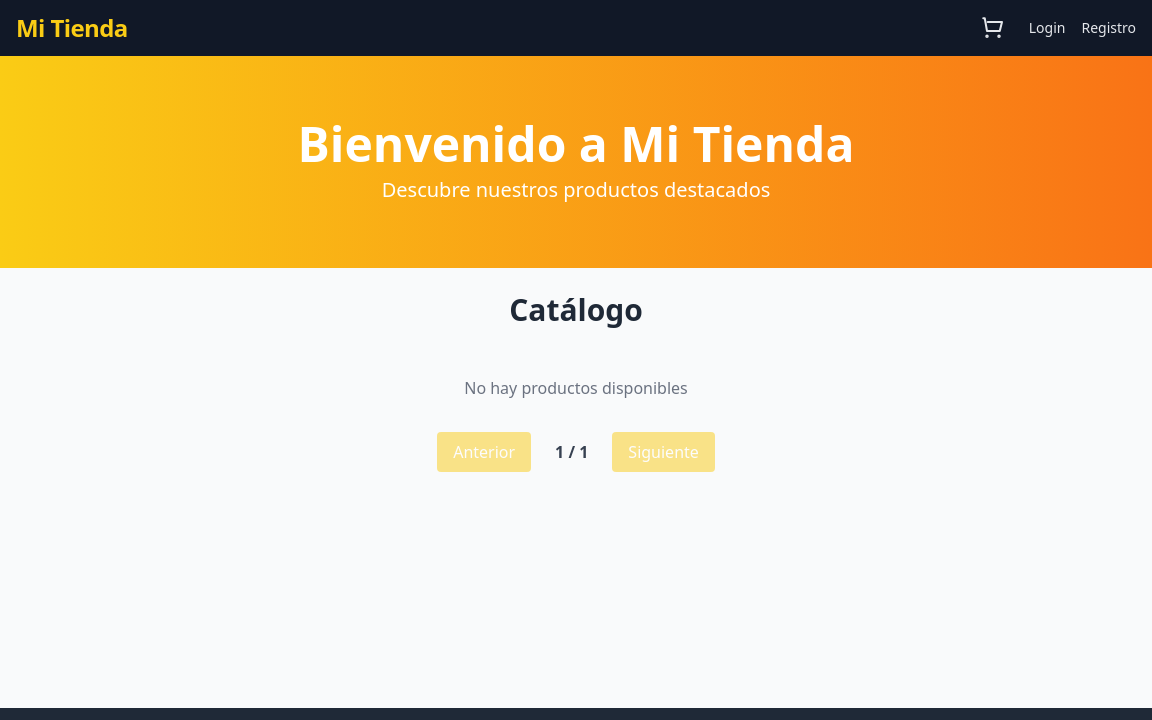
Test: Funcionamiento del carrito y sus flujos › pruebo el flujo hasta el carrito
What coordinates should you click on to do the following:
click the link with class "carrito"
I would click on:
 (993, 28)
Its box is [981,16,1005,40].
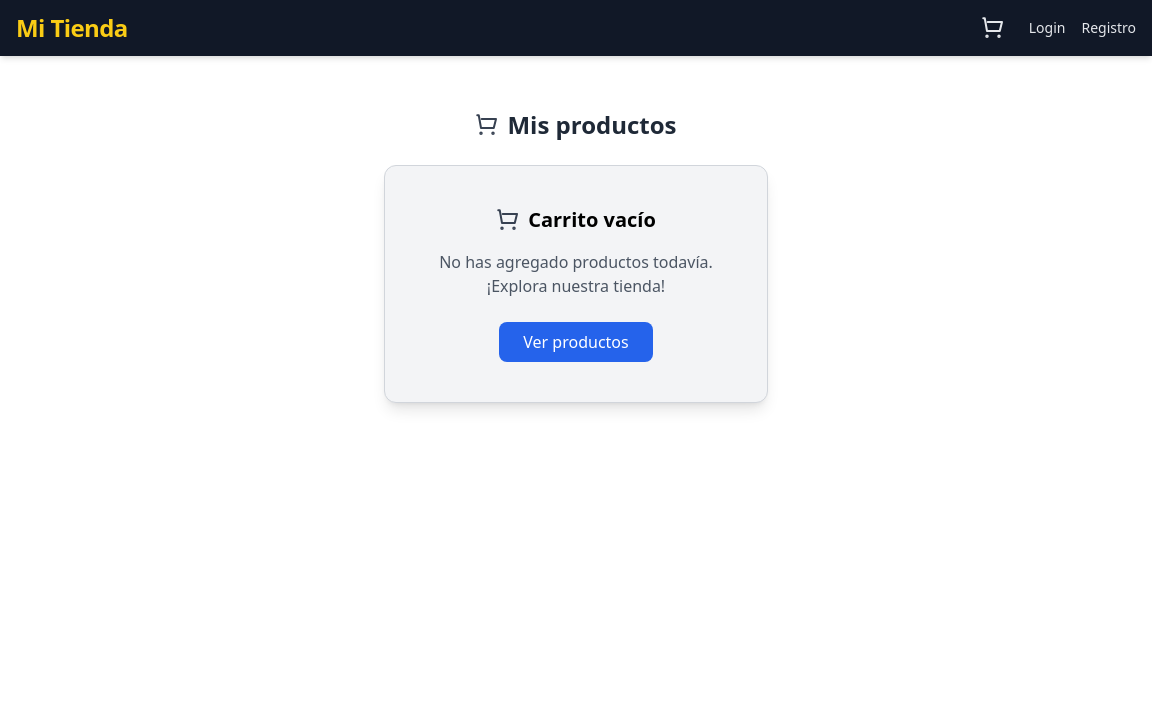
Now the heading "Mis productos" is shown, box [476,109,677,141]
